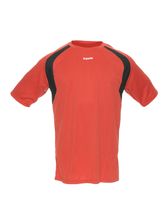clothoes: (9, 37, 161, 184)
